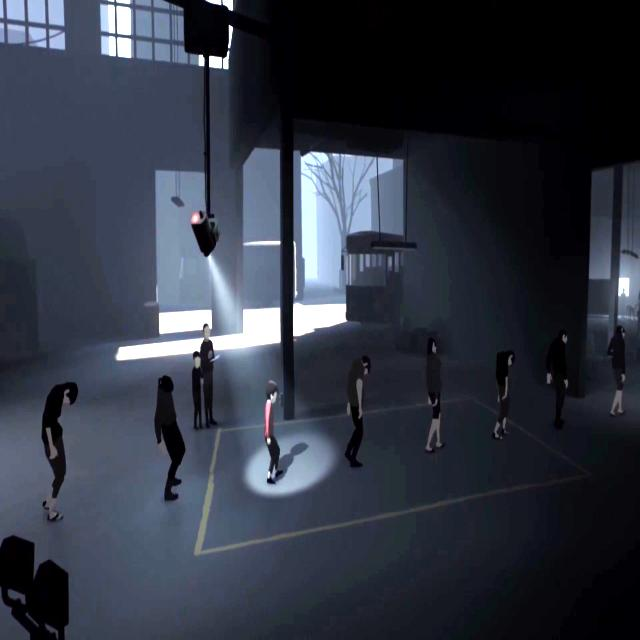boy: (41, 381, 76, 522), (264, 382, 281, 484)
human: (197, 322, 216, 427), (190, 352, 203, 430)
zombie: (153, 373, 188, 499), (344, 356, 370, 468), (425, 337, 444, 452), (548, 329, 569, 428), (493, 349, 515, 440), (609, 327, 627, 414)
